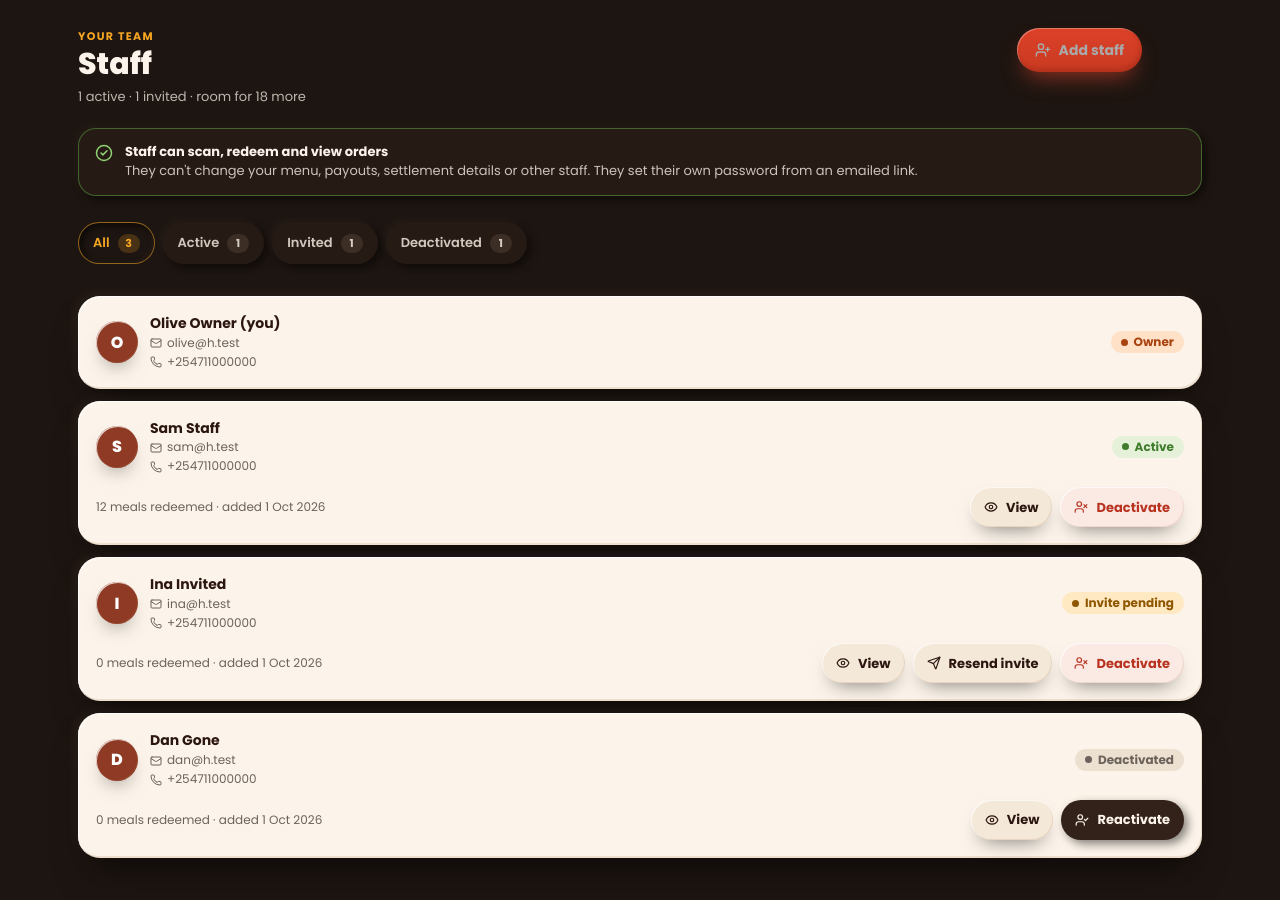
Scenario: HotelStaffManageScreen › server errors (duplicate account, unverified owner email) stay in the dialog so nothing is lost
This screenshot has width=1280, height=900.
Expected: the text "Sam Staff" is shown, top-left (150, 418), bottom-right (220, 438)
Click the button "Add staff" at (1079, 50), box top-left (1017, 28), bottom-right (1142, 72)
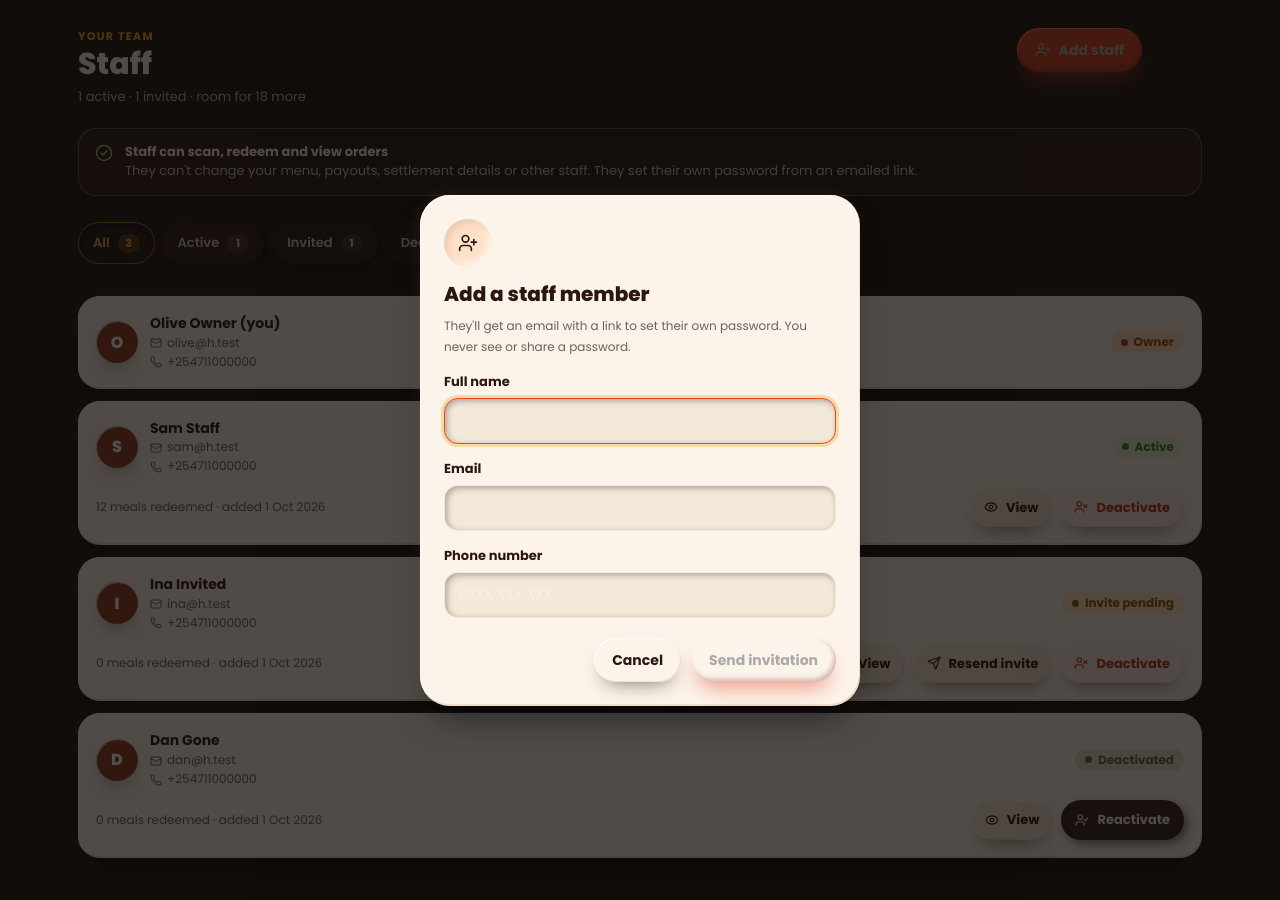
Type "Dup Person" into the field labelled "Full name" at (640, 420), box top-left (444, 398), bottom-right (836, 444)
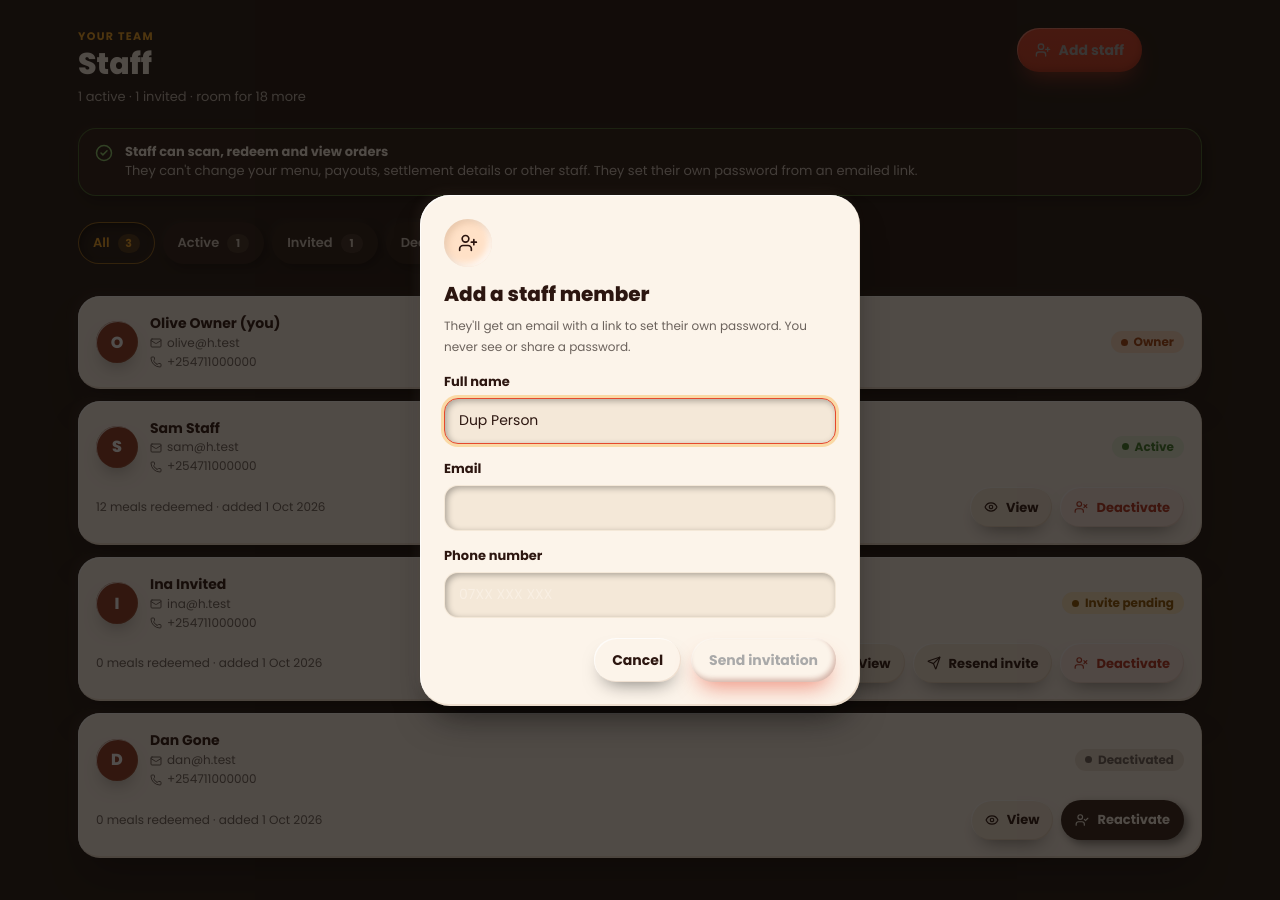
Type "dup@h.test" into the field labelled "Email" at (640, 508), box top-left (444, 484), bottom-right (836, 530)
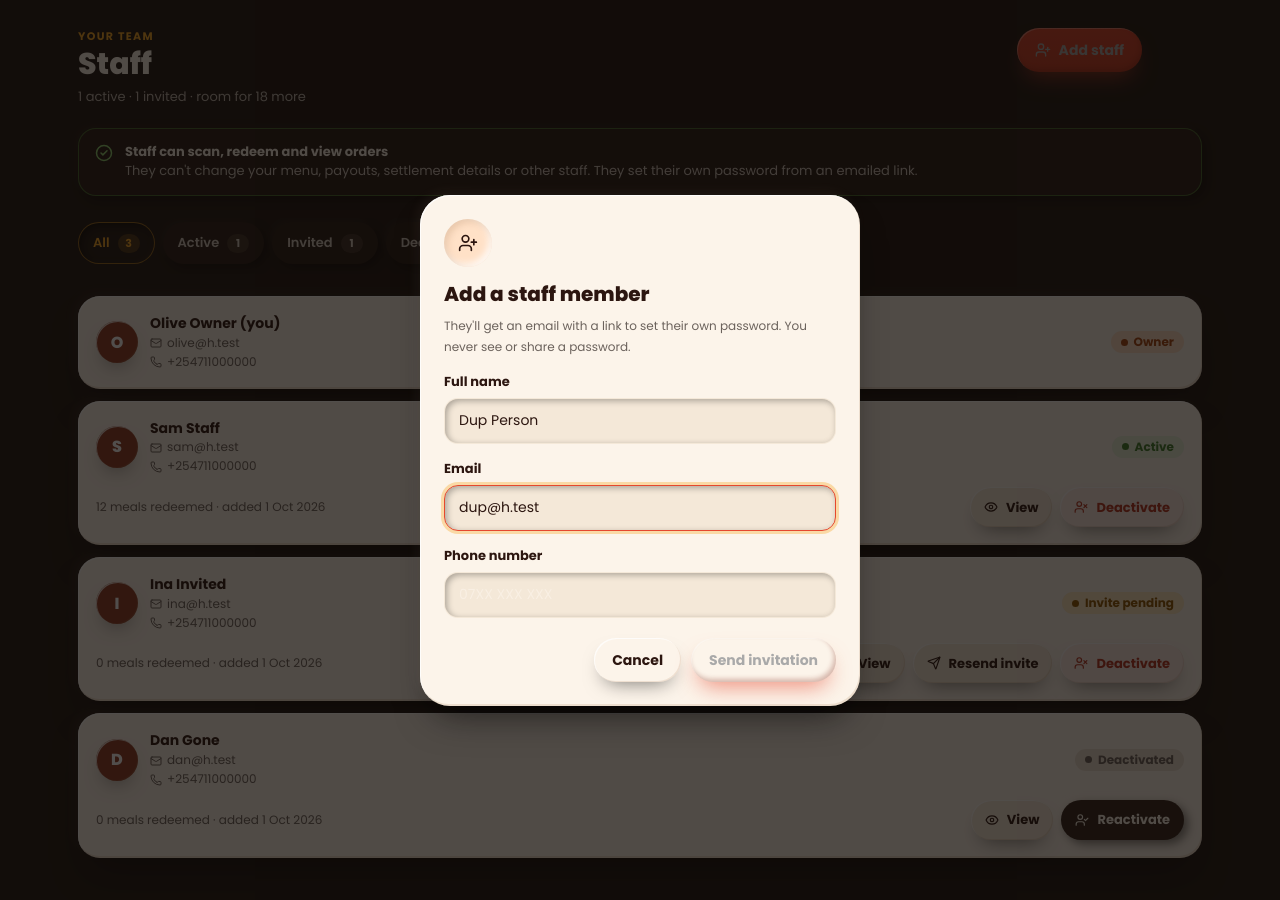
Type "0712345678" into the field labelled "Phone number" at (640, 594), box top-left (444, 572), bottom-right (836, 618)
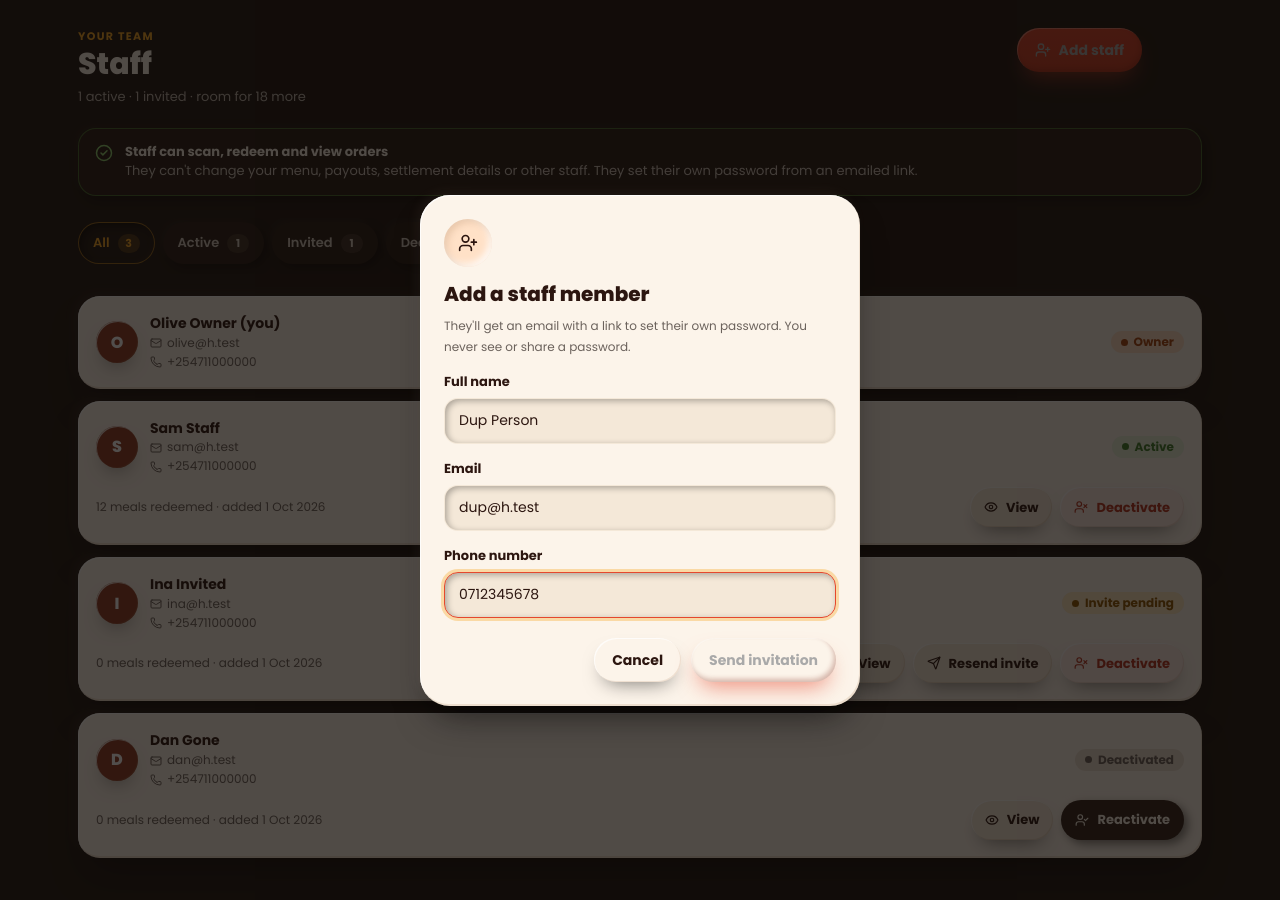
Click the button "Send invitation" at (764, 660), box top-left (691, 638), bottom-right (836, 682)
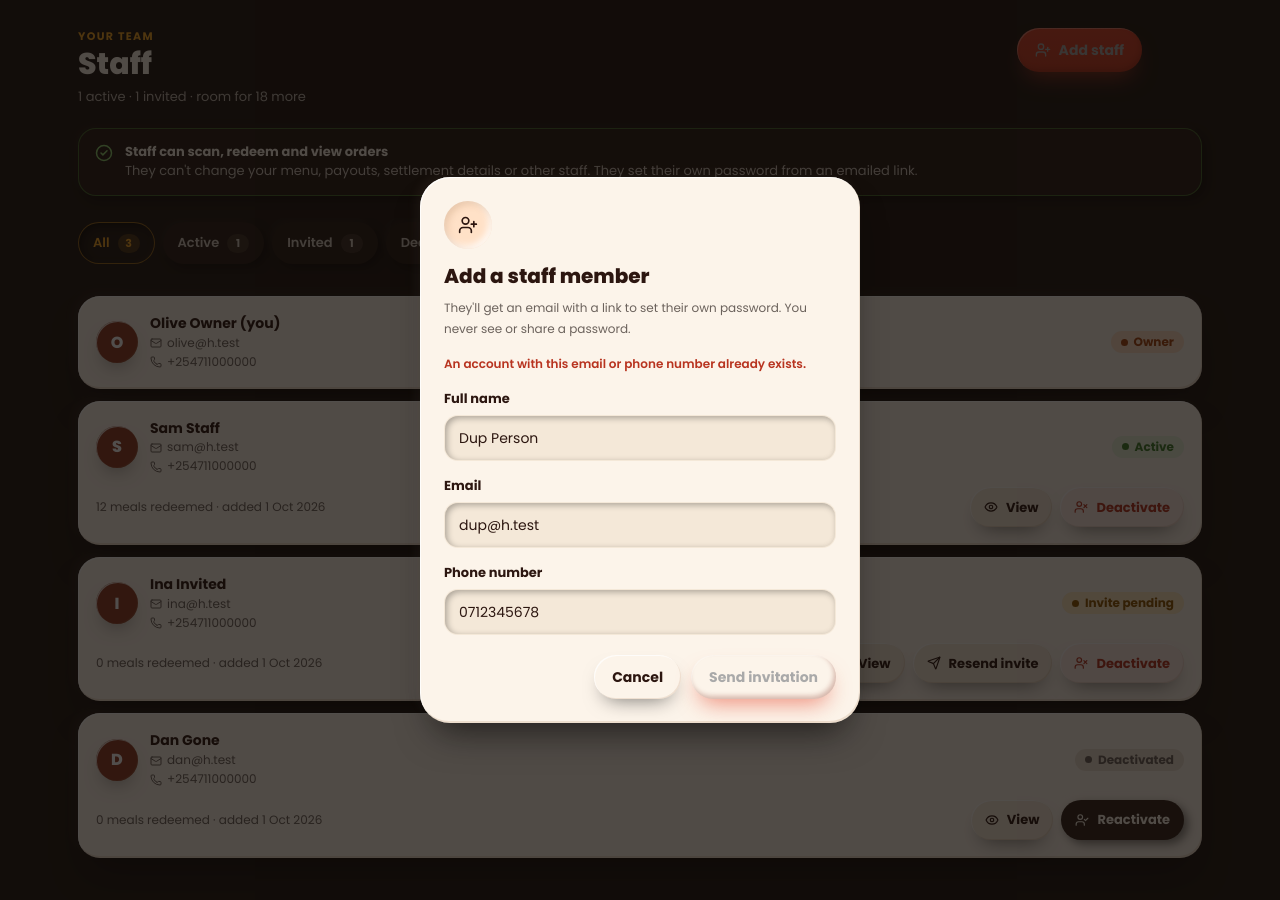
Expected: the message shows "already exists", top-left (444, 355), bottom-right (806, 372)
